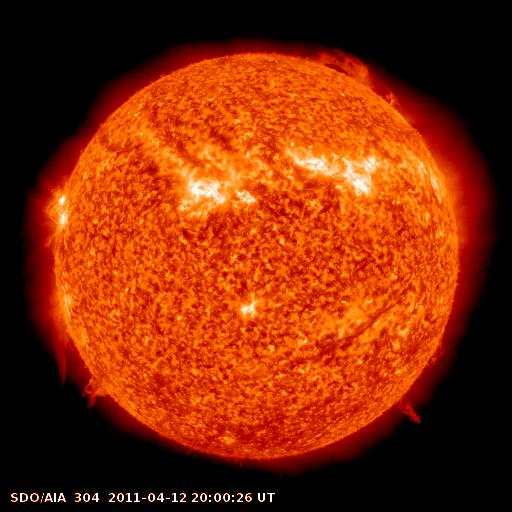prominence: (32, 309, 131, 417), (295, 35, 407, 114), (387, 386, 431, 430), (419, 333, 456, 370)
